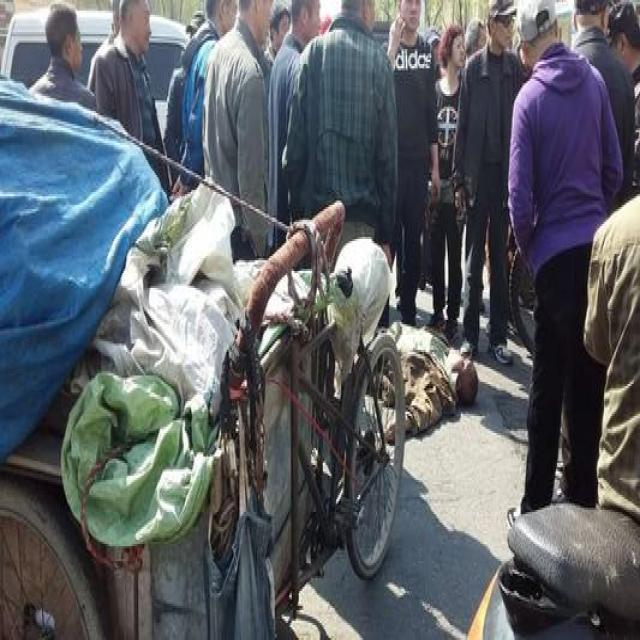10-: (15, 0, 638, 542)
down: (352, 280, 487, 458)
